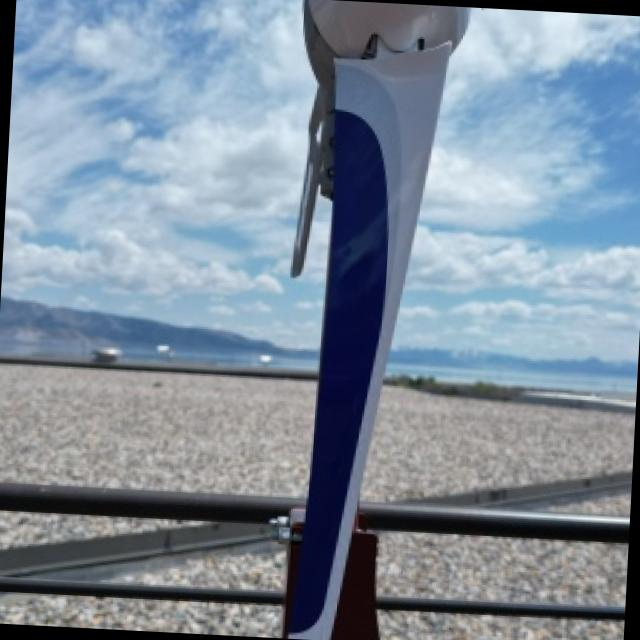healthy: (291, 0, 471, 639)
